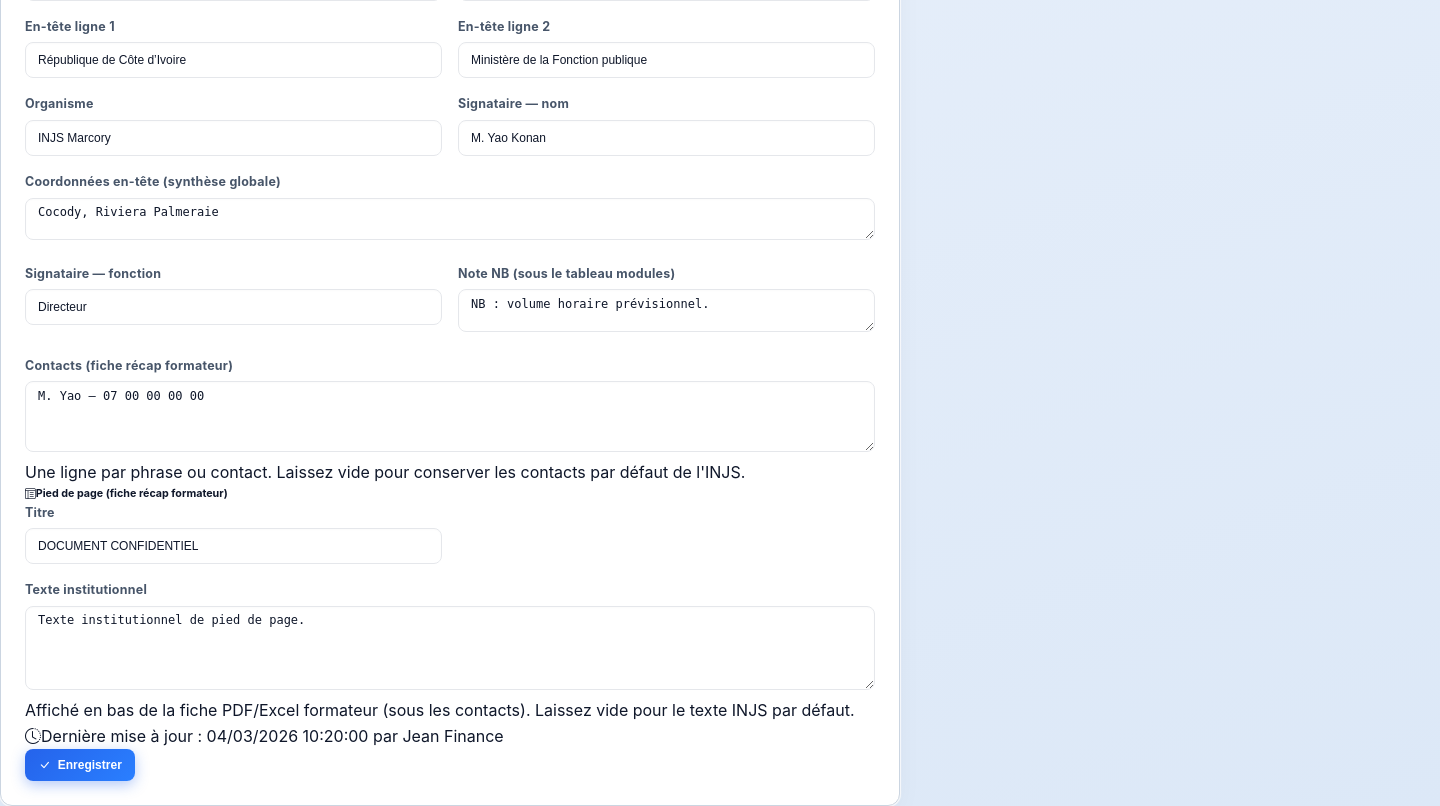
Test case: pages/FinanceParametrage.jsx — édition et sauvegarde (LOT 28) › accepte le séparateur décimal virgule reçu du serveur (chaîne)
(page scrolled)
Click the submit button at [80, 765], box x1=25 y1=749 x2=135 y2=781
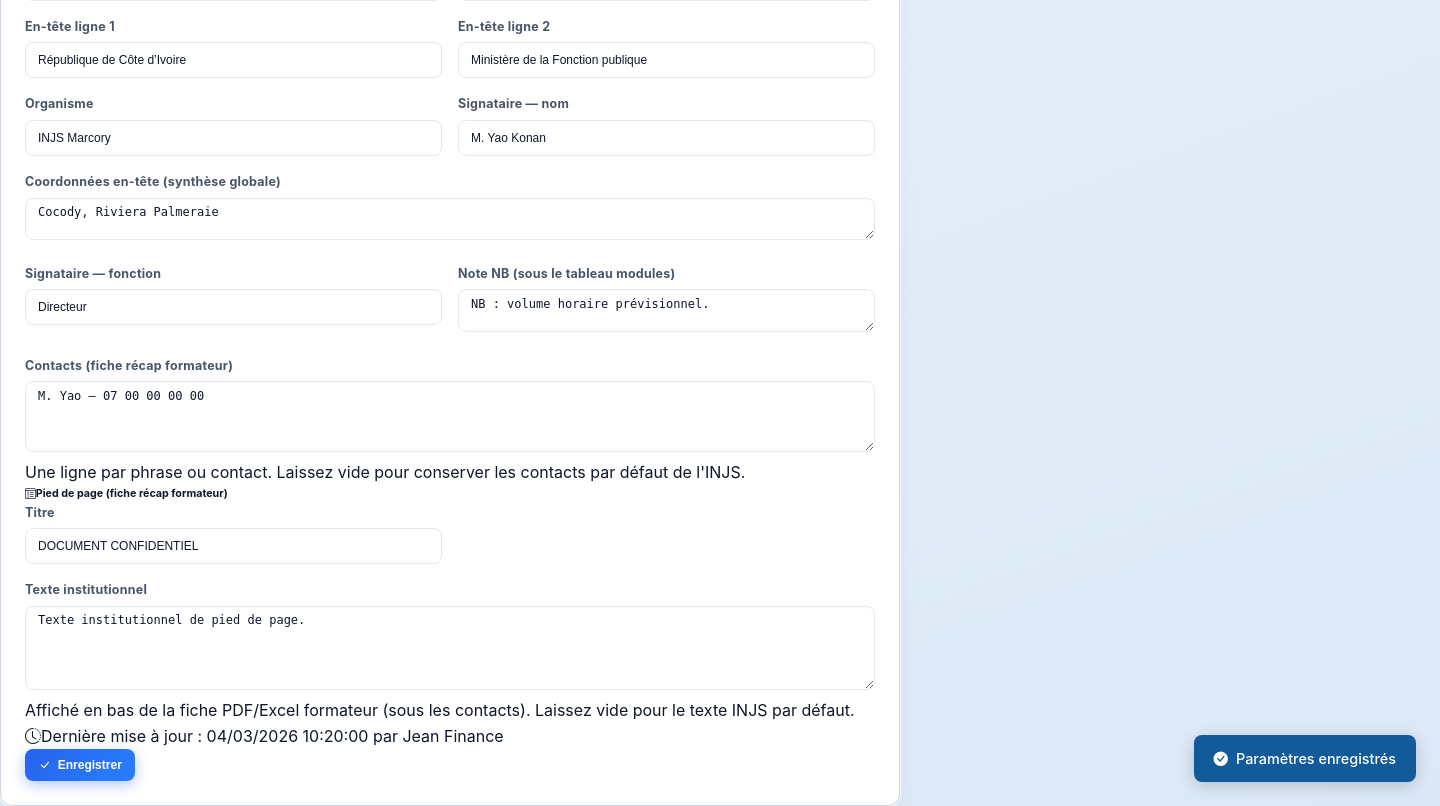
expect the text "Paramètres enregistrés" is shown: met, box x1=1194 y1=735 x2=1416 y2=782
